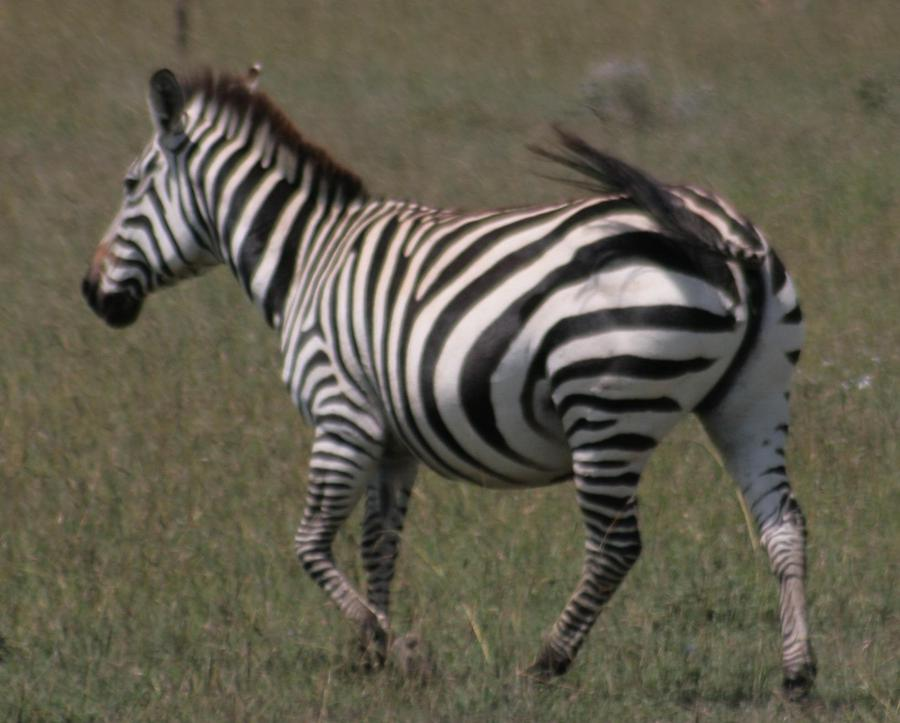zebra_plains: (248, 164, 687, 514)
